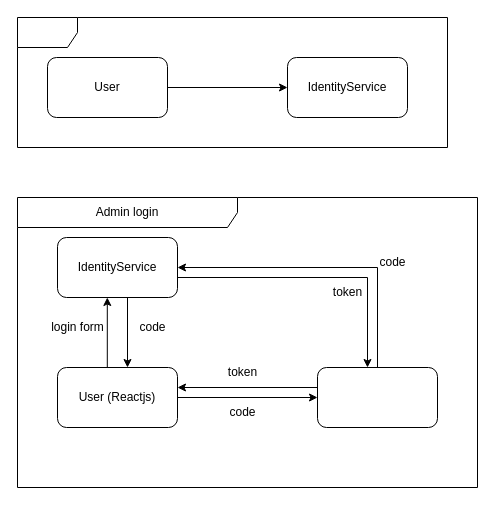
Some shapes in this 495 by 505 pixel diagram are drawn without their labels. Here are the shapes that lost their labels. From the top down, the centre of each, then its label:
point 232,82: Register
point 377,397: Backend API
